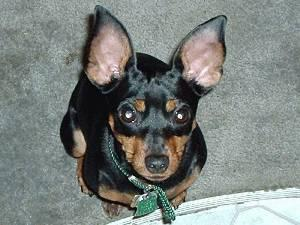dog-miniature_pinscher: (84, 4, 226, 180)
